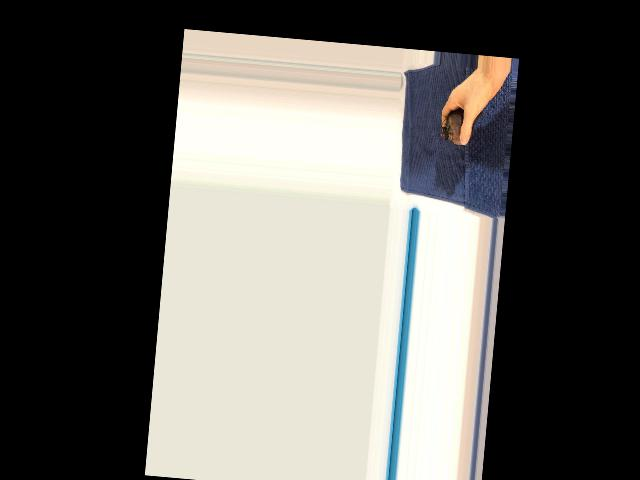beet: (440, 107, 486, 147)
